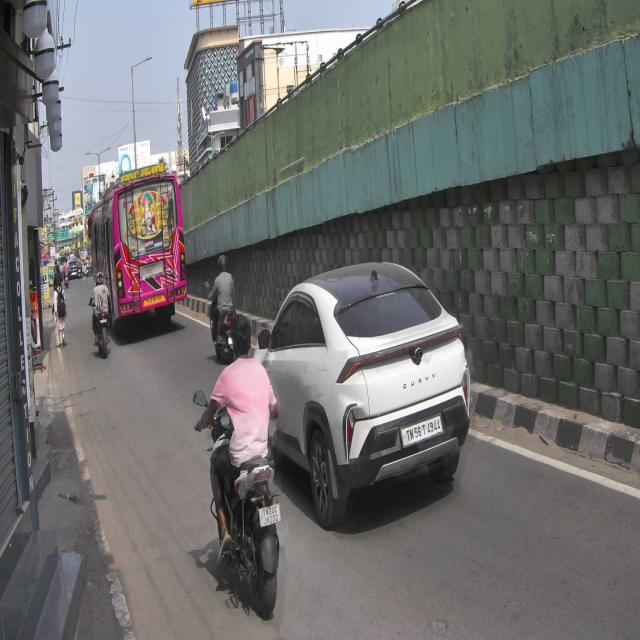single_rider: (193, 313, 284, 621)
